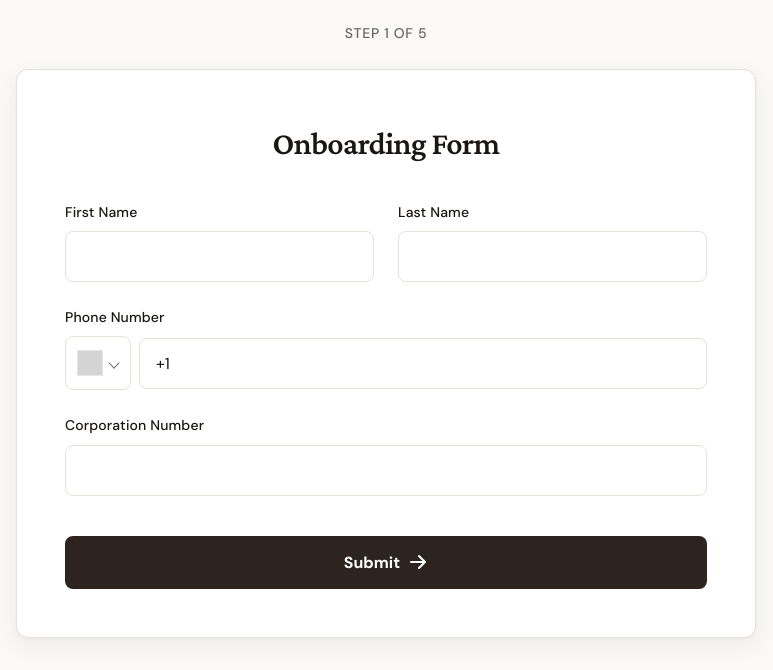
OnboardingForm › 02 - shows validation error for empty first name on blur
This screenshot has width=773, height=670.
Click the field labelled "First Name" at [220, 257], box [65,231,374,282]
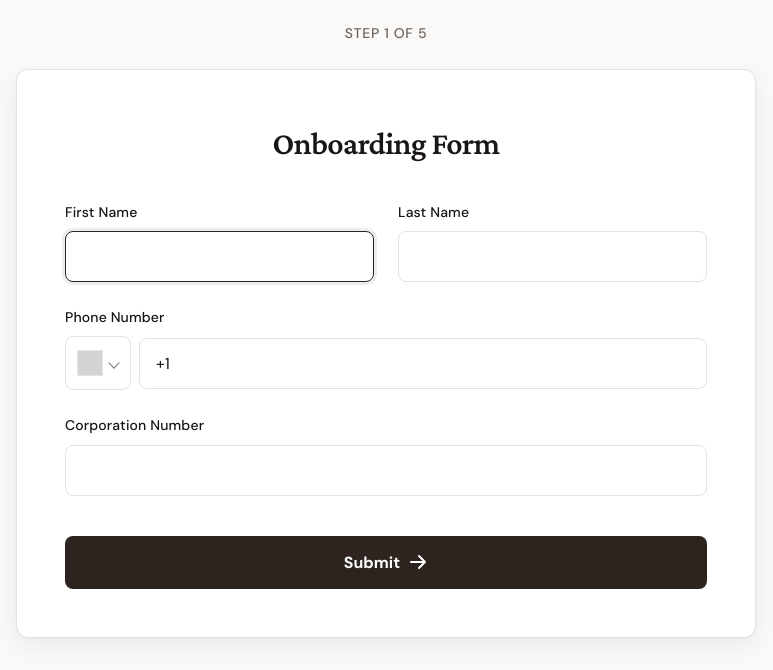
Press Tab
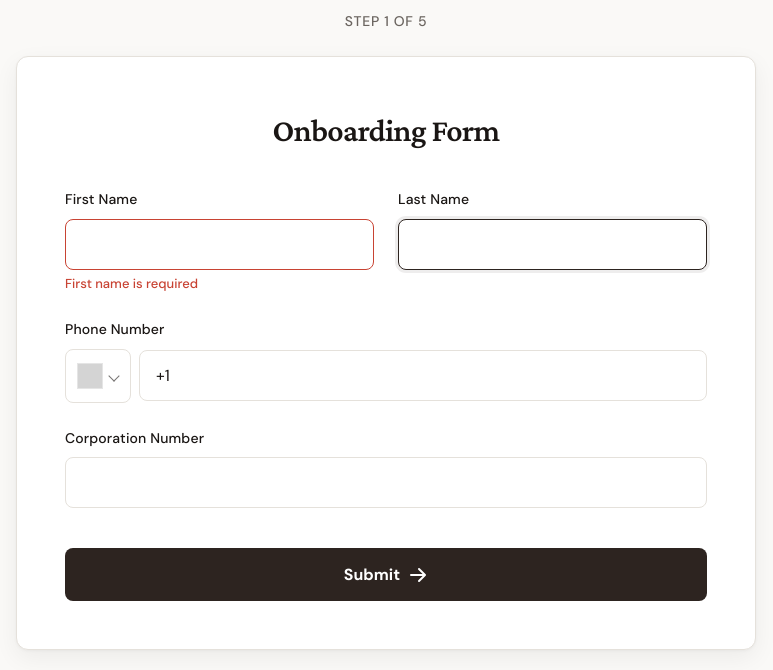
Expected: the text "First name is required" is shown, [65,275,198,292]
